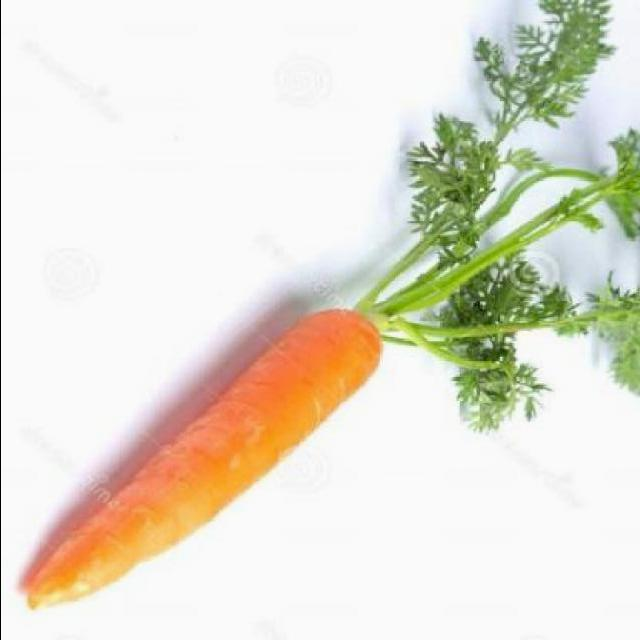carrot: (15, 288, 403, 622)
